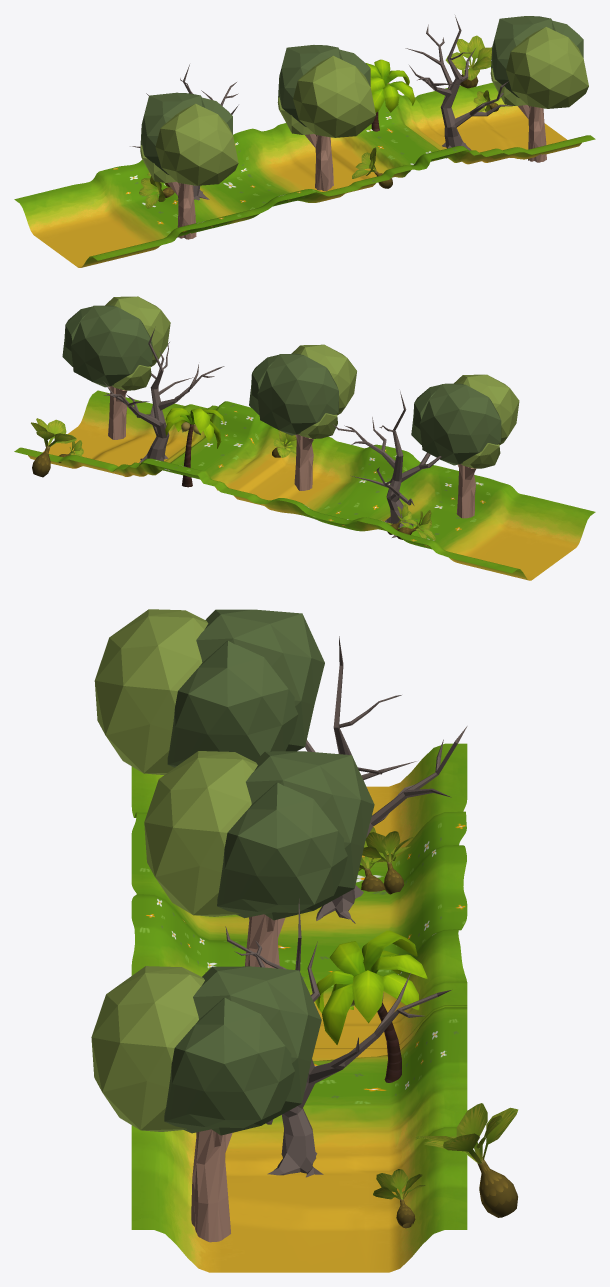
Rendered from Forest.fbx.
The picture shows the model from 3 angles, top to bottom: view 1: azimuth 30°, elevation 25°; view 2: azimuth 150°, elevation 25°; view 3: azimuth 270°, elevation 25°; orthographic projection. The views are drawn at different scales.
Visible parts, largest first — view 1: pPlane1, polySurface54, polySurface6, polySurface55, Line02, polySurface728, polySurface286, polySurface733, polySurface731, Line01; view 2: pPlane1, polySurface54, polySurface6, polySurface55, Line02, Line01, polySurface728, polySurface286, polySurface731, polySurface733; view 3: pPlane1, polySurface55, polySurface54, polySurface6, polySurface728, Line02, polySurface286, Line01, polySurface732, polySurface730.
Boxes of the visible parts, <box> form: pPlane1: <box>14,82,595,267</box>; polySurface54: <box>277,45,375,190</box>; polySurface6: <box>140,92,238,239</box>; polySurface55: <box>490,16,588,162</box>; Line02: <box>405,15,513,158</box>; polySurface728: <box>366,59,415,131</box>; polySurface286: <box>445,35,491,88</box>; polySurface733: <box>139,176,174,208</box>; polySurface731: <box>352,147,392,188</box>; Line01: <box>130,64,238,200</box>; pPlane1: <box>14,390,595,580</box>; polySurface54: <box>249,344,356,490</box>; polySurface6: <box>411,374,519,518</box>; polySurface55: <box>62,296,170,439</box>; Line02: <box>104,328,224,462</box>; Line01: <box>333,391,441,537</box>; polySurface728: <box>165,408,224,487</box>; polySurface286: <box>31,418,76,477</box>; polySurface731: <box>272,430,296,457</box>; polySurface733: <box>397,510,435,540</box>; pPlane1: <box>131,743,467,1272</box>; polySurface55: <box>91,966,321,1242</box>; polySurface54: <box>144,751,374,968</box>; polySurface6: <box>94,609,324,774</box>; polySurface728: <box>315,930,427,1082</box>; Line02: <box>205,898,451,1177</box>; polySurface286: <box>415,1103,518,1217</box>; Line01: <box>218,636,467,923</box>; polySurface732: <box>362,831,413,894</box>; polySurface730: <box>373,1169,425,1228</box>.
Bounding box in the file's own units: 405 × 116 × 149.
